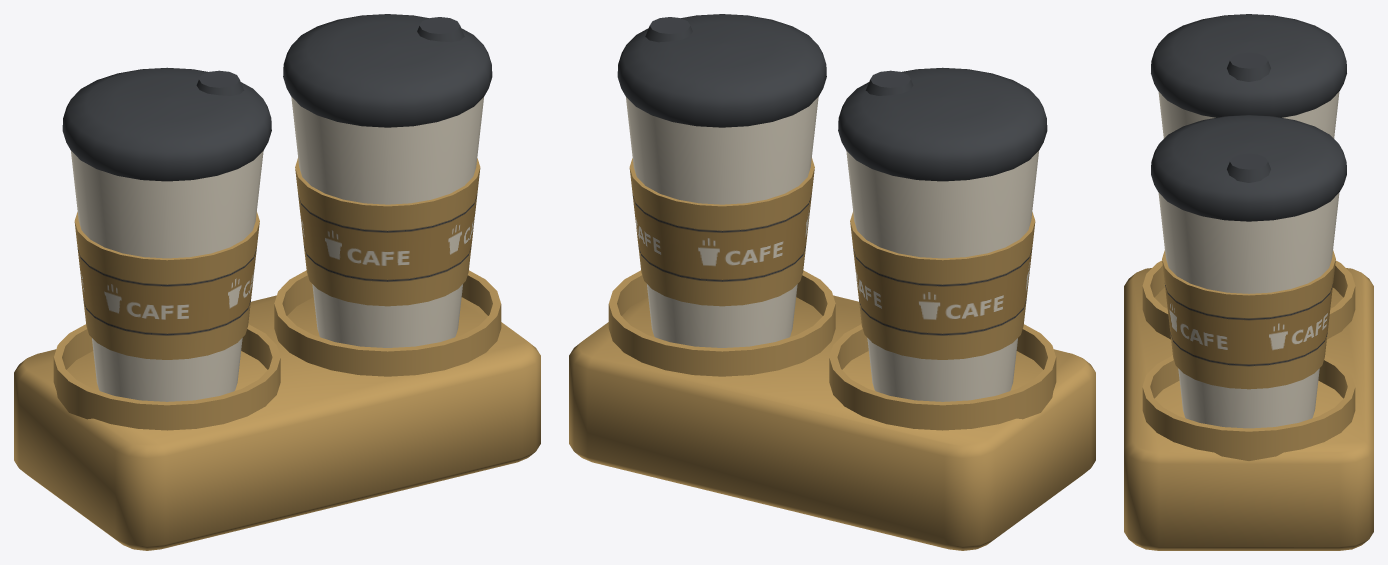
Rendered from porte_gobelets.glb.
The picture shows the model from 3 angles, left to right: view 1: azimuth 30°, elevation 25°; view 2: azimuth 150°, elevation 25°; view 3: azimuth 270°, elevation 25°; orthographic projection. The views are drawn at different scales.
Visible parts, largest first — view 1: PGC_Kraft, PGC_Creme, PGC_Anthracite, PGC_Manchons; view 2: PGC_Kraft, PGC_Creme, PGC_Anthracite, PGC_Manchons; view 3: PGC_Kraft, PGC_Anthracite, PGC_Creme, PGC_Manchons.
Boxes of the visible parts, x1,y1,x2,y2 form: PGC_Kraft: [14, 270, 540, 550]; PGC_Creme: [71, 97, 483, 401]; PGC_Anthracite: [62, 14, 492, 181]; PGC_Manchons: [74, 158, 480, 359]; PGC_Kraft: [569, 270, 1095, 550]; PGC_Creme: [626, 97, 1038, 401]; PGC_Anthracite: [617, 14, 1047, 181]; PGC_Manchons: [629, 158, 1035, 359]; PGC_Kraft: [1124, 260, 1373, 550]; PGC_Anthracite: [1151, 14, 1346, 221]; PGC_Creme: [1158, 92, 1339, 428]; PGC_Manchons: [1162, 250, 1335, 389].
Bounding box in the file's own units: 0.21 × 0.1885 × 0.115.
4 materials, 1 textured.
